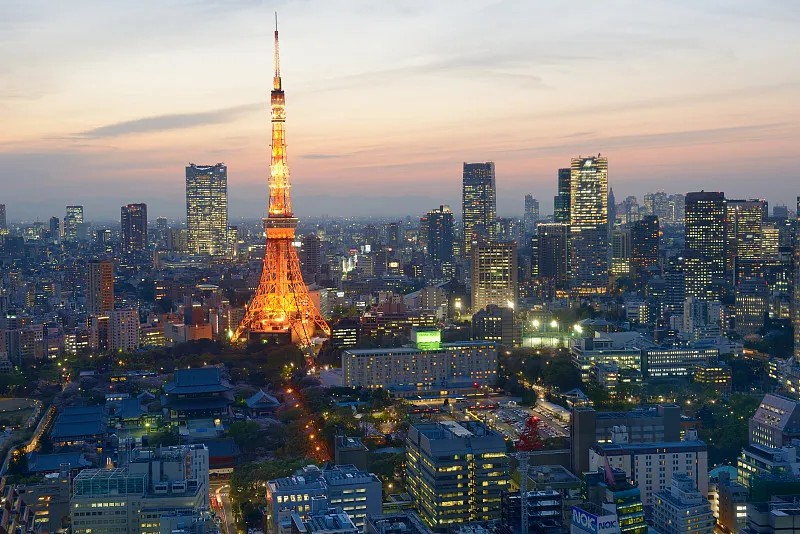Tokyo: (231, 9, 331, 346)
